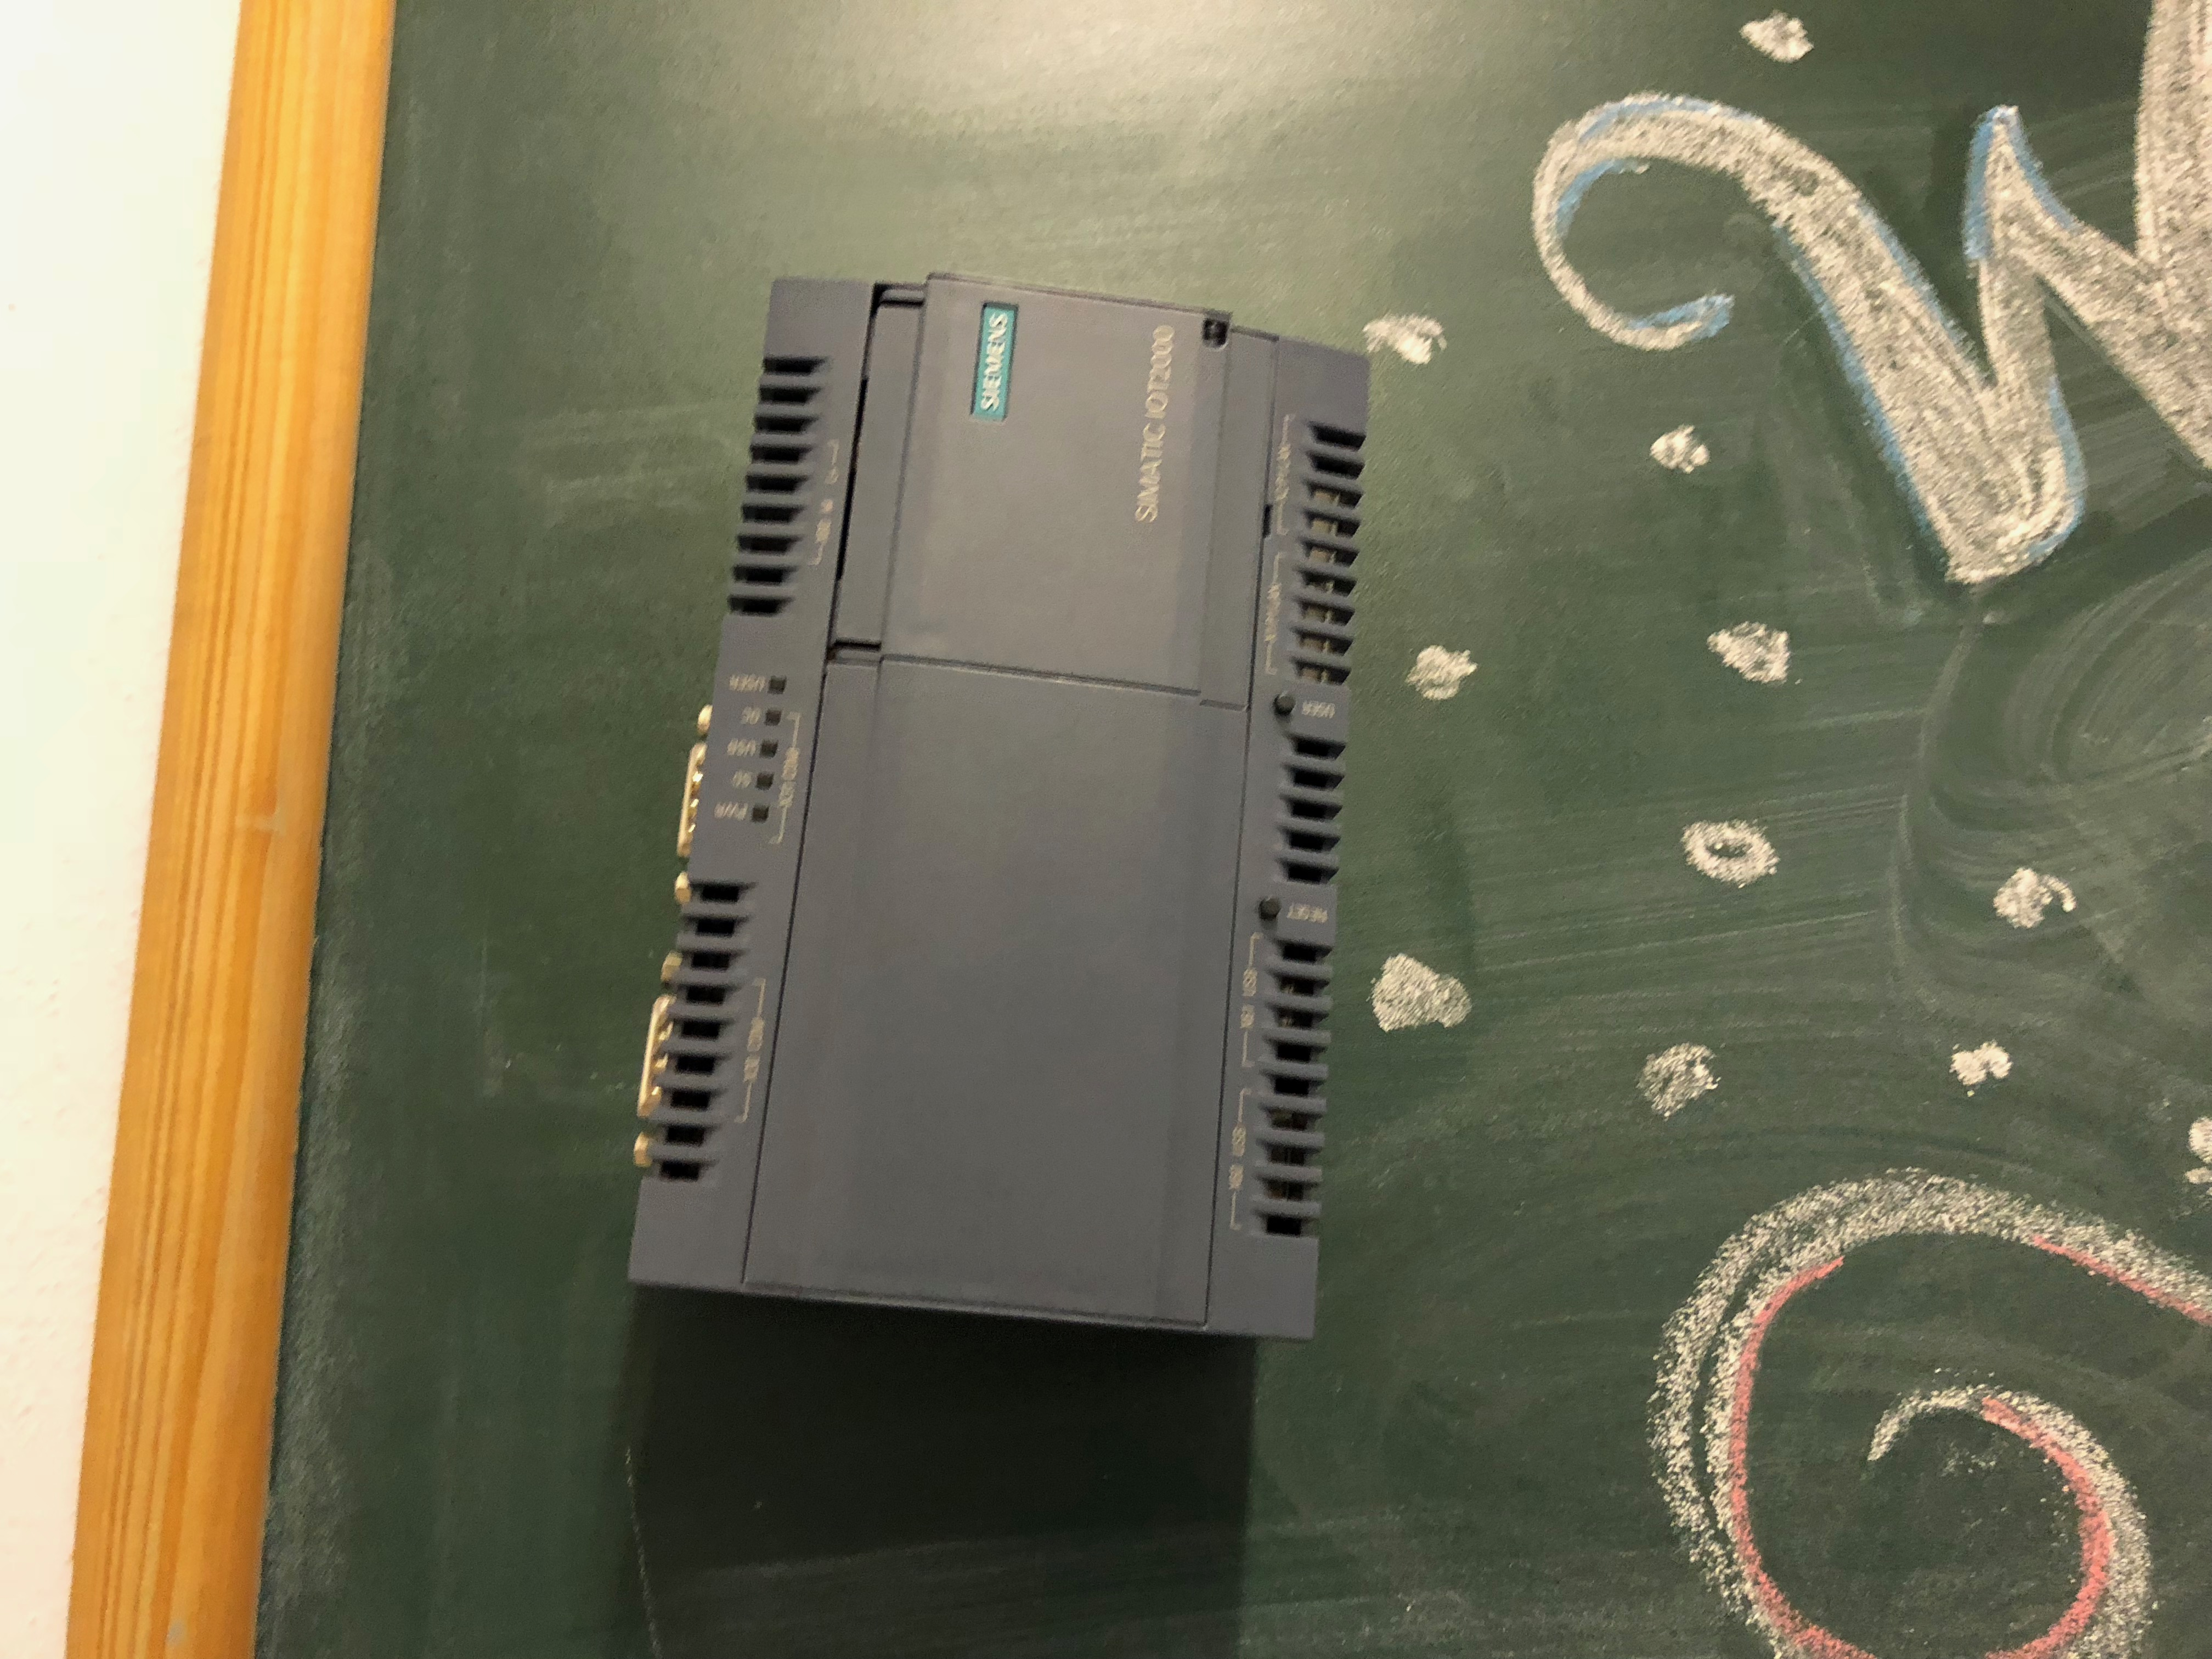device: (627, 270, 1371, 1340)
